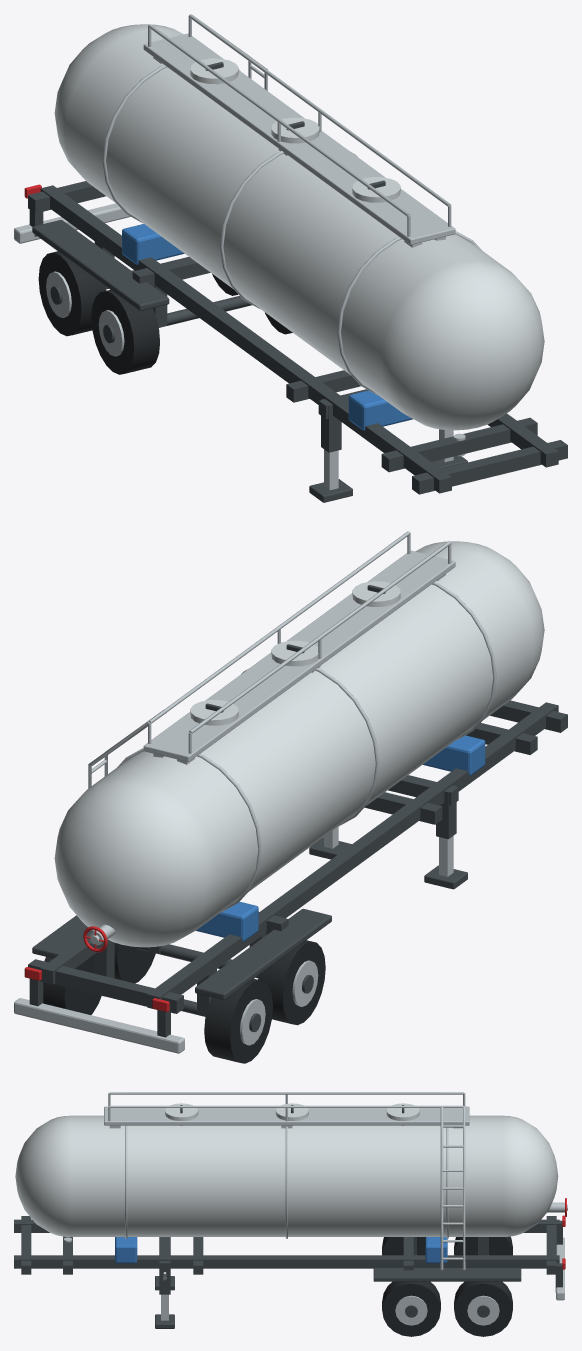
Rendered from semi_tanker_trailer.glb.
3 views of the same model, one above another, from view 1: azimuth 30°, elevation 25°; view 2: azimuth 150°, elevation 25°; view 3: azimuth 270°, elevation 25° (orthographic). The views are drawn at different scales.
Visible parts, largest first — view 1: Tanker main round barrel, Tanker rounded end cap, Tanker upper walkway, Trailer main chassis rail, Trailer wheel mudguard, Trailer tandem tire, Trailer tandem tire.002, Trailer chassis crossmember, Trailer chassis crossmember.001, Tanker rounded end cap.001, Tank support saddle, Tank support saddle.001 (+18 smaller); view 2: Tanker main round barrel, Tanker rounded end cap.001, Tanker upper walkway, Trailer main chassis rail, Trailer wheel mudguard, Trailer tandem tire.002, Trailer rear underride bar, Trailer tandem tire, Trailer chassis crossmember.004, Tanker rounded end cap, Tank support saddle, Tank support saddle.001 (+19 smaller); view 3: Tanker main round barrel, Trailer main chassis rail.001, Tanker upper walkway, Tanker rounded end cap, Tanker rounded end cap.001, Trailer tandem tire.001, Trailer tandem tire.003, Trailer wheel mudguard.001, Tanker walkway handrail, Tanker walkway handrail.001, Trailer tandem tire.002, Trailer tandem rim.001 (+16 smaller).
Part boxes in pixels (x1=…): Tanker main round barrel: x1=64, y1=29, x2=510, y2=412; Tanker rounded end cap: x1=380, y1=260, x2=544, y2=430; Tanker upper walkway: x1=143, y1=33, x2=455, y2=244; Trailer main chassis rail: x1=40, y1=185, x2=451, y2=493; Trailer wheel mudguard: x1=32, y1=220, x2=169, y2=310; Trailer tandem tire: x1=91, y1=290, x2=159, y2=374; Trailer tandem tire.002: x1=38, y1=251, x2=106, y2=336; Trailer chassis crossmember: x1=412, y1=440, x2=567, y2=494; Trailer chassis crossmember.001: x1=381, y1=417, x2=537, y2=472; Tanker rounded end cap.001: x1=54, y1=24, x2=179, y2=178; Tank support saddle: x1=348, y1=390, x2=412, y2=430; Tank support saddle.001: x1=122, y1=224, x2=184, y2=264; Tanker main round barrel: x1=88, y1=546, x2=534, y2=929; Tanker rounded end cap.001: x1=54, y1=777, x2=218, y2=947; Tanker upper walkway: x1=143, y1=550, x2=455, y2=761; Trailer main chassis rail: x1=147, y1=702, x2=558, y2=1009; Trailer wheel mudguard: x1=195, y1=908, x2=331, y2=999; Trailer tandem tire.002: x1=204, y1=979, x2=272, y2=1063; Trailer rear underride bar: x1=14, y1=998, x2=184, y2=1053; Trailer tandem tire: x1=258, y1=940, x2=325, y2=1025; Trailer chassis crossmember.004: x1=28, y1=959, x2=183, y2=1013; Tanker rounded end cap: x1=419, y1=541, x2=544, y2=695; Tank support saddle: x1=423, y1=735, x2=485, y2=775; Tank support saddle.001: x1=196, y1=902, x2=258, y2=941; Tanker main round barrel: x1=70, y1=1115, x2=502, y2=1236; Trailer main chassis rail.001: x1=14, y1=1255, x2=559, y2=1268; Tanker upper walkway: x1=104, y1=1106, x2=469, y2=1125; Tanker rounded end cap: x1=15, y1=1115, x2=70, y2=1236; Tanker rounded end cap.001: x1=503, y1=1115, x2=558, y2=1236; Trailer tandem tire.001: x1=382, y1=1281, x2=440, y2=1336; Trailer tandem tire.003: x1=454, y1=1281, x2=512, y2=1336; Trailer wheel mudguard.001: x1=373, y1=1268, x2=521, y2=1281; Tanker walkway handrail: x1=109, y1=1092, x2=463, y2=1094; Tanker walkway handrail.001: x1=109, y1=1105, x2=463, y2=1107; Trailer tandem tire.002: x1=454, y1=1236, x2=512, y2=1255; Trailer tandem rim.001: x1=395, y1=1295, x2=427, y2=1325.
Size of the model in its own units: 2.87 by 4.1 by 10.
